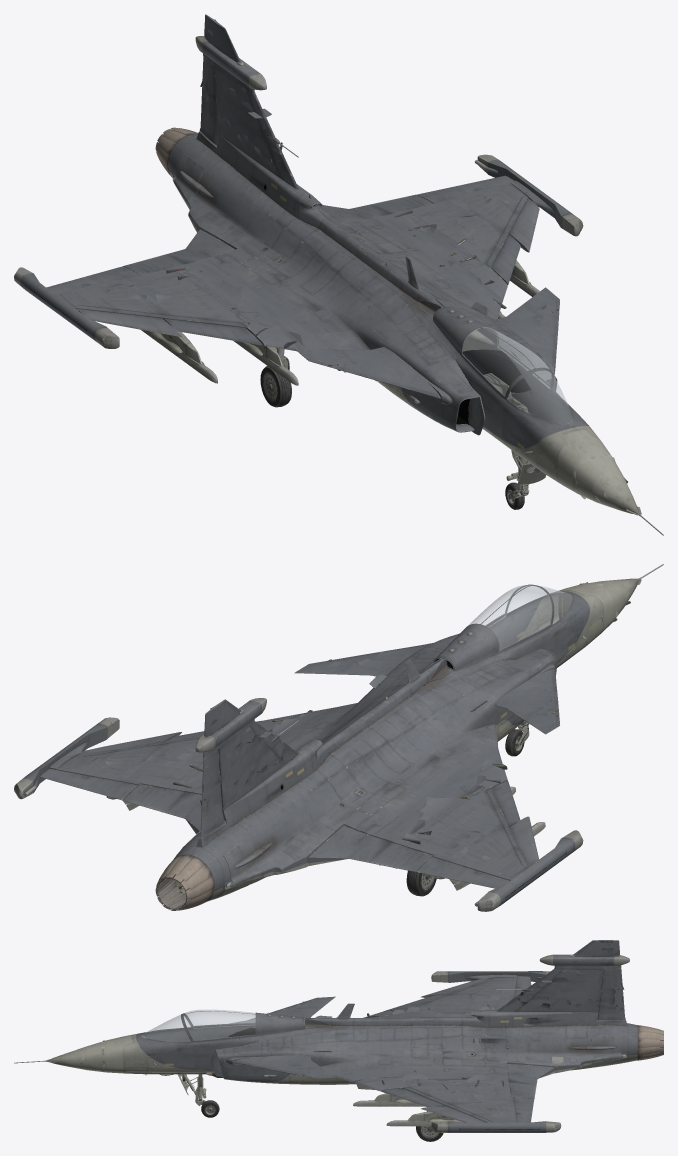
The model's file is VEH_JAS39.glb.
The picture shows the model from 3 angles, top to bottom: view 1: azimuth 30°, elevation 25°; view 2: azimuth 150°, elevation 25°; view 3: azimuth 270°, elevation 25°; orthographic projection. The views are drawn at different scales.
Visible parts, largest first — view 1: ob_veh_airplane_jas39_base_s0, ob_veh_airplane_jas39_base_s1, ob_veh_airplane_jas39_base_s2; view 2: ob_veh_airplane_jas39_base_s0, ob_veh_airplane_jas39_base_s1, ob_veh_airplane_jas39_base_s2; view 3: ob_veh_airplane_jas39_base_s0, ob_veh_airplane_jas39_base_s1, ob_veh_airplane_jas39_base_s2.
Boxes of the visible parts, x1,y1,x2,y2 form: ob_veh_airplane_jas39_base_s0: (155, 14, 663, 535); ob_veh_airplane_jas39_base_s1: (14, 154, 583, 509); ob_veh_airplane_jas39_base_s2: (462, 327, 571, 423); ob_veh_airplane_jas39_base_s0: (155, 564, 663, 910); ob_veh_airplane_jas39_base_s1: (14, 593, 583, 911); ob_veh_airplane_jas39_base_s2: (469, 585, 571, 650); ob_veh_airplane_jas39_base_s0: (14, 940, 663, 1084); ob_veh_airplane_jas39_base_s1: (177, 971, 637, 1141); ob_veh_airplane_jas39_base_s2: (141, 1009, 255, 1041).
Size of the model in its own units: 8.56 by 4.57 by 15.2.
Materials: 6 (4 with a texture image).
